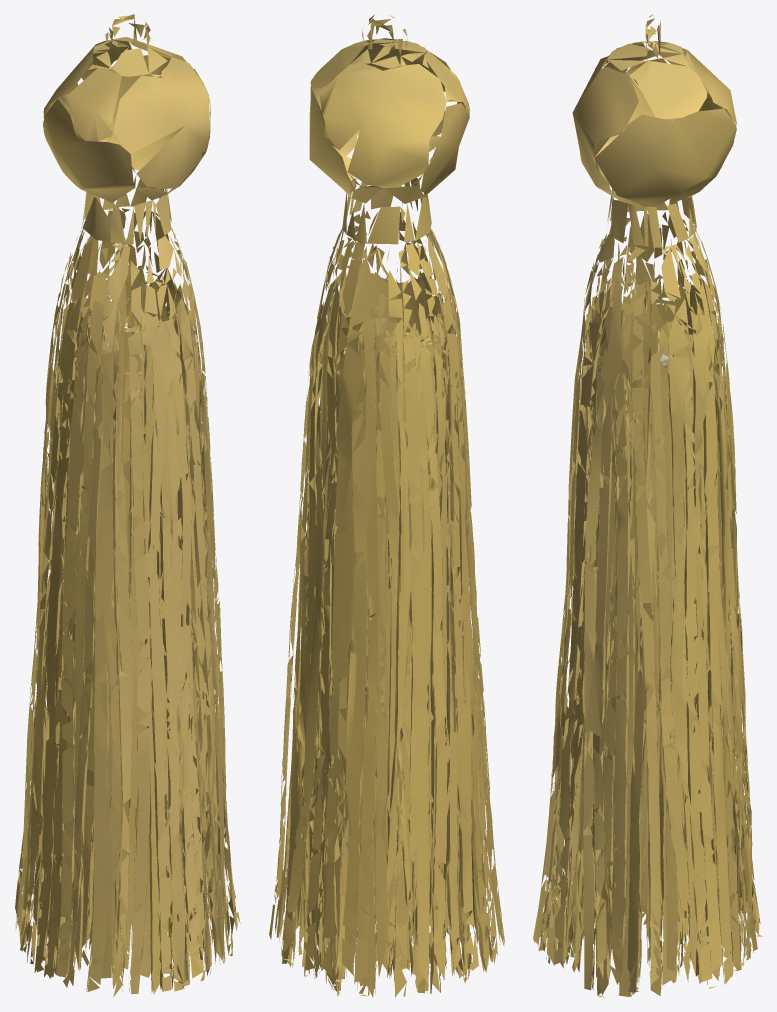
Rendered from tassel.glb.
3 renders of one model, left to right at view 1: azimuth 30°, elevation 25°; view 2: azimuth 150°, elevation 25°; view 3: azimuth 270°, elevation 25°, orthographic.
Parts seen in each view (by area): view 1: tassel; view 2: tassel; view 3: tassel.
Boxes of the visible parts, x1,y1,x2,y2 form: tassel: [15, 14, 240, 996]; tassel: [269, 14, 504, 997]; tassel: [533, 14, 762, 997].
Size of the model in its own units: 0.2181 by 1 by 0.2207.
1 material, 1 textured.
